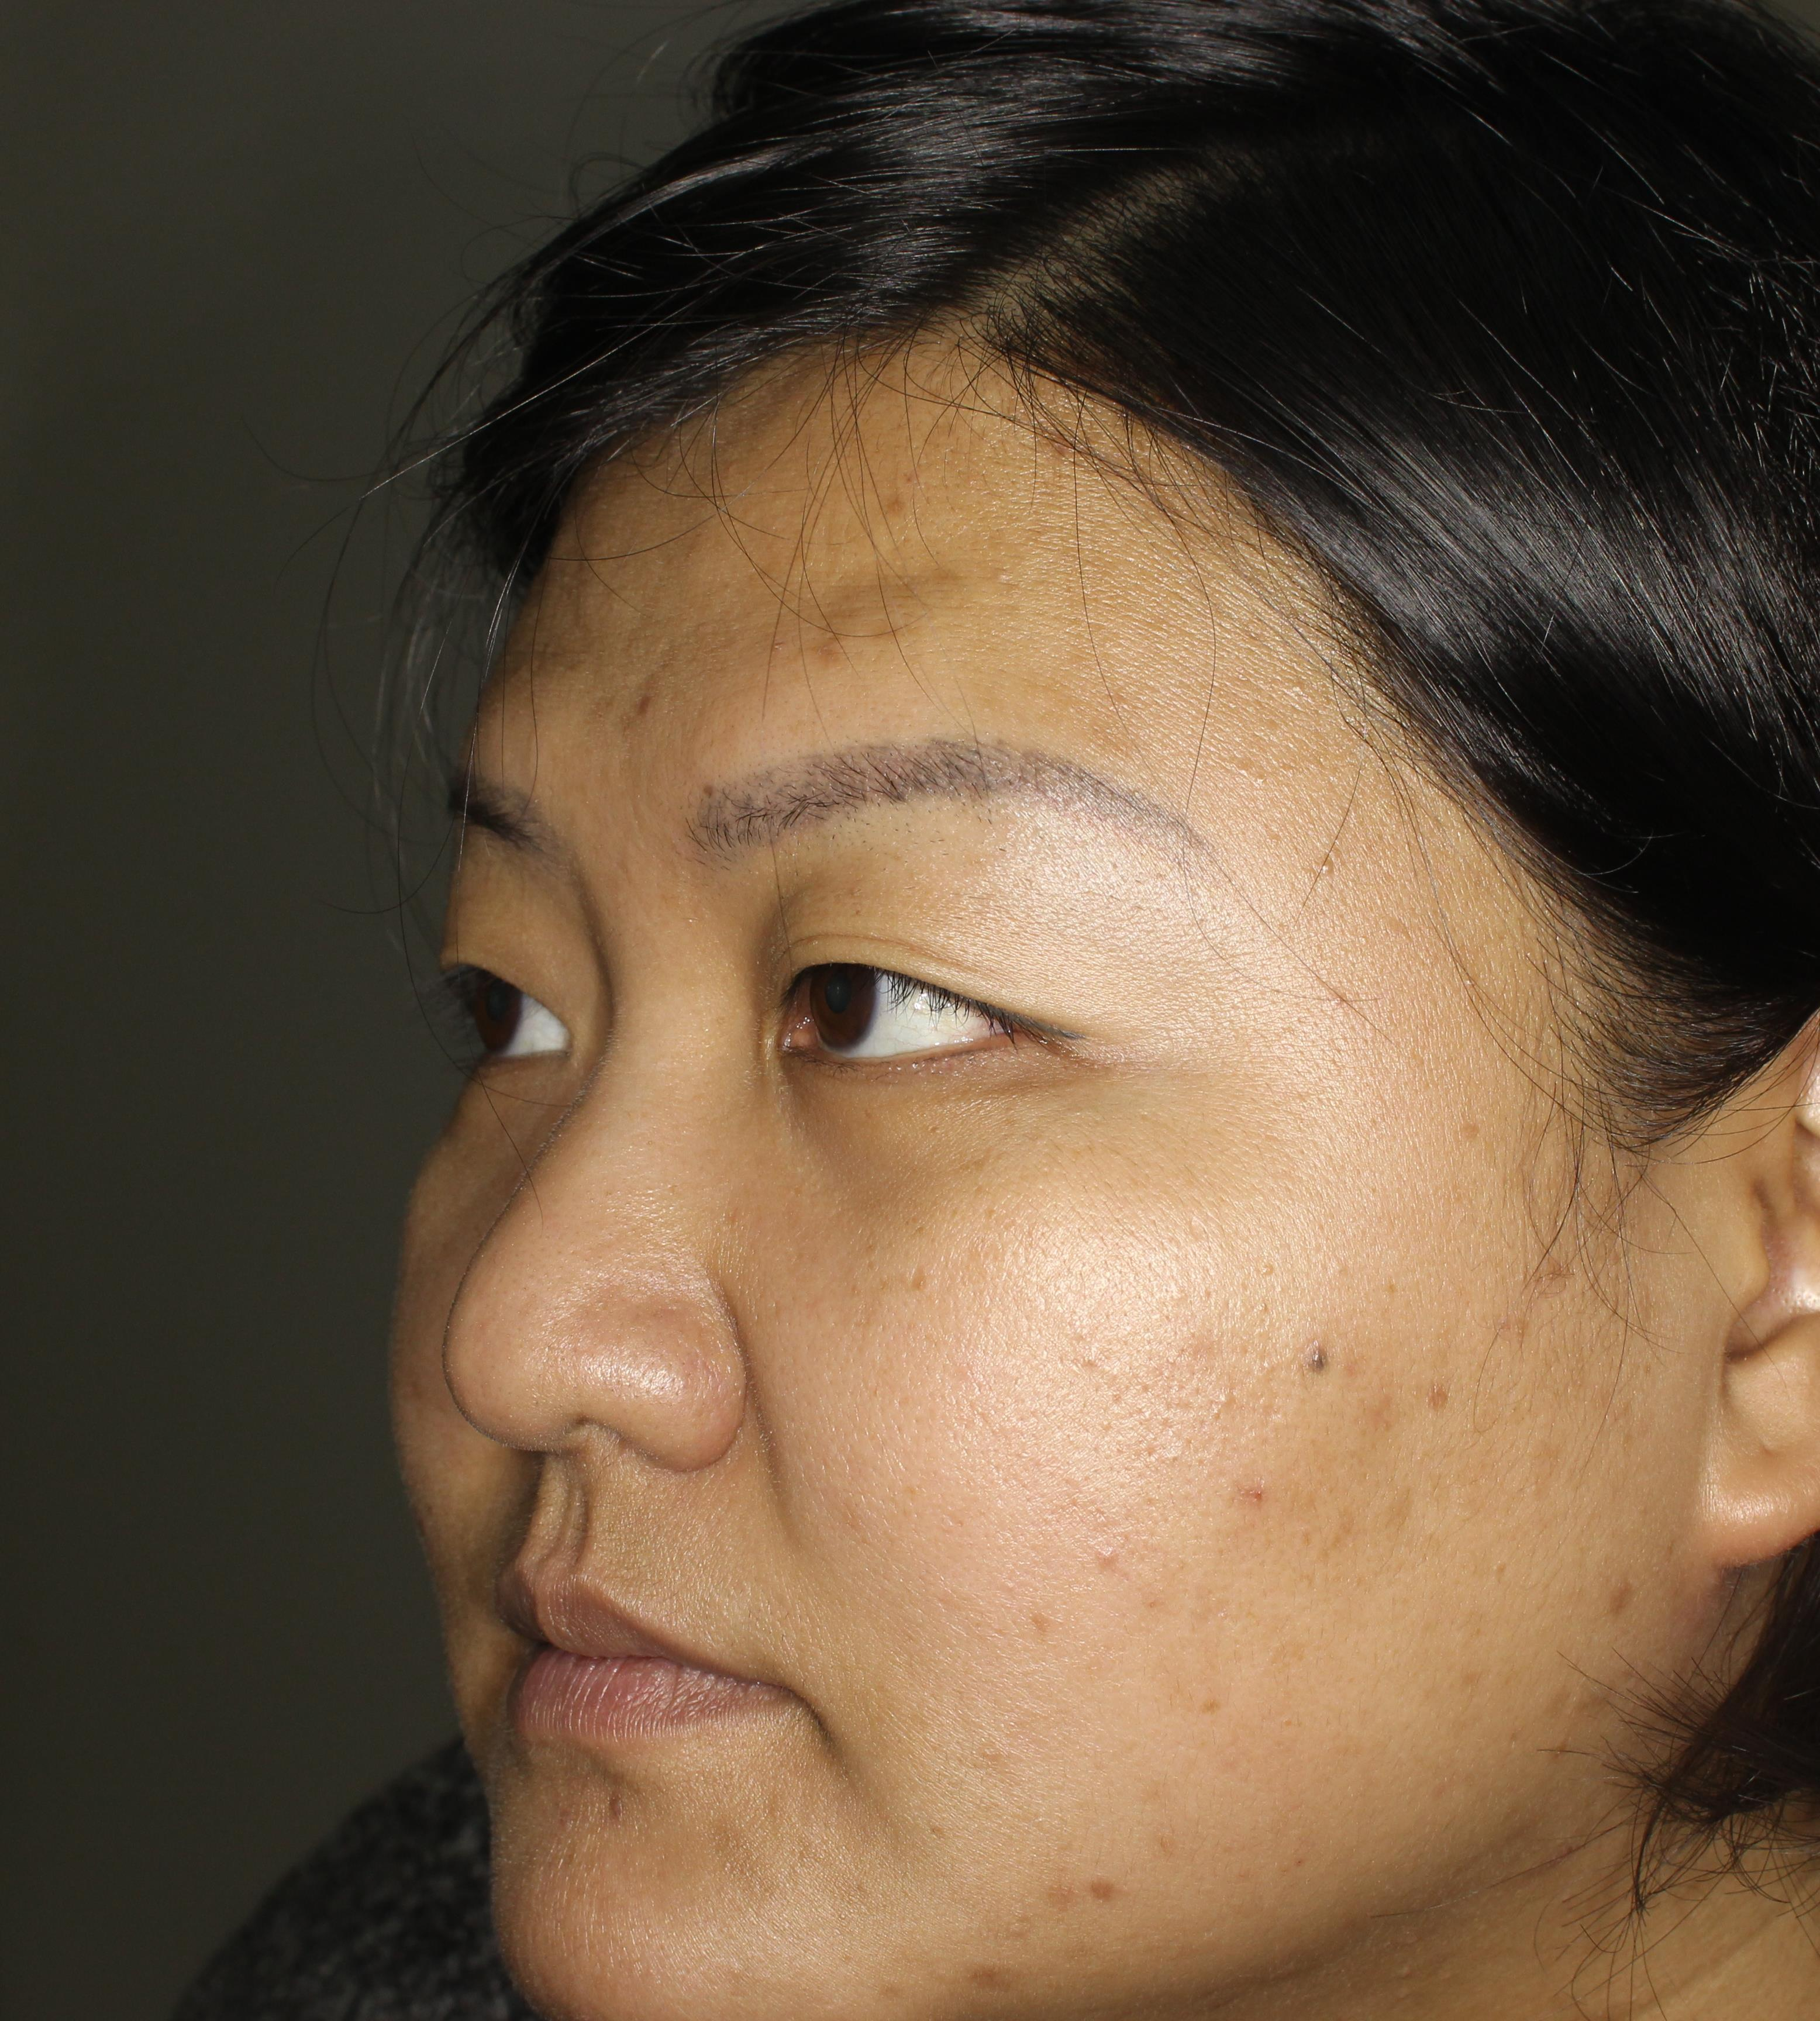fore: (1031, 1854, 1123, 1938)
